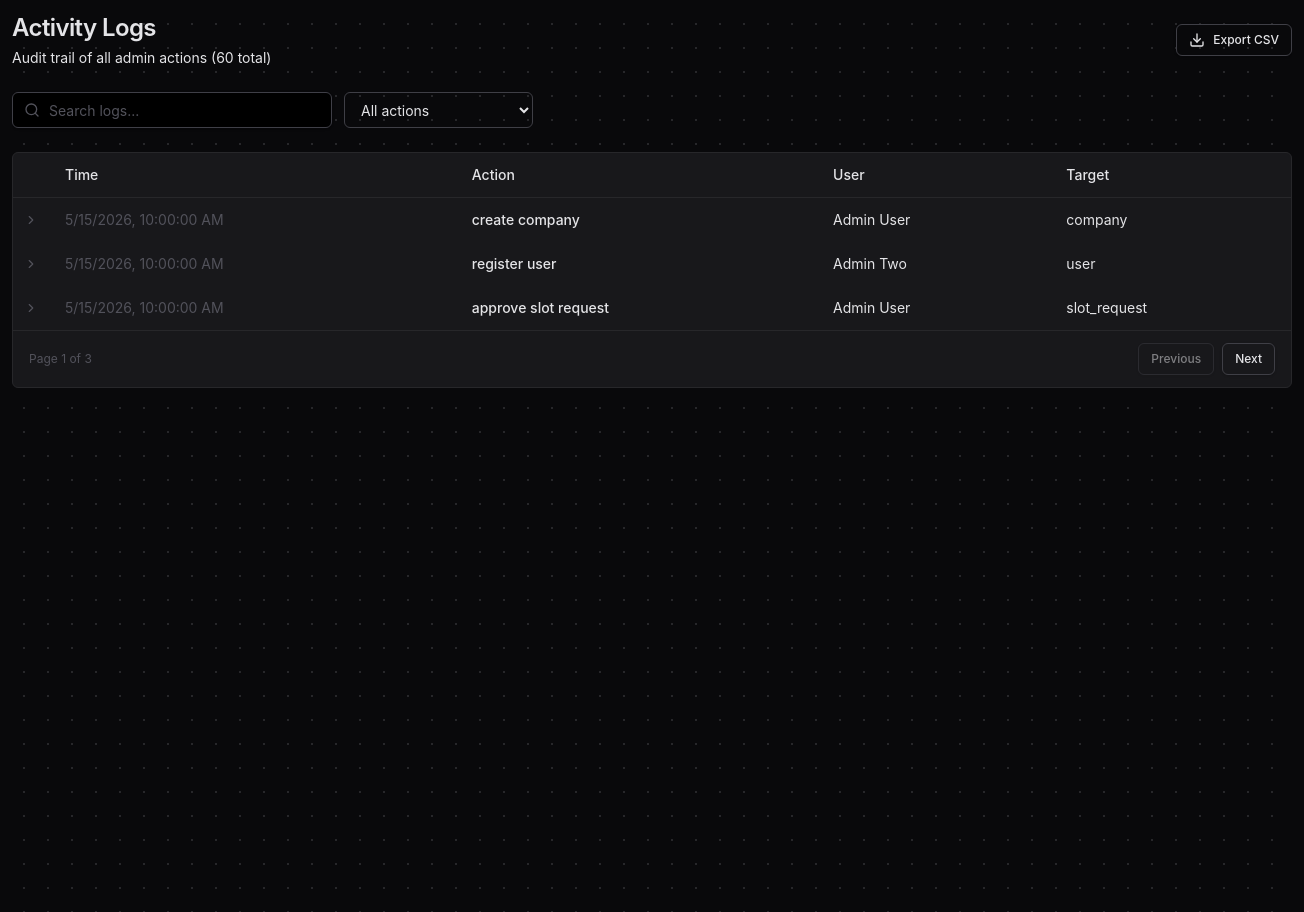
AdminLogs › T-M3-3.D.1 - Loading, debounced search, action filters, pagination, empty states › search input change resets page to 0
Expected: the text "create company" is shown, [472,211,580,228]
# Navigate to page 2
Click the button "Next". click: (1249, 359)
box: [1222,343,1275,375]
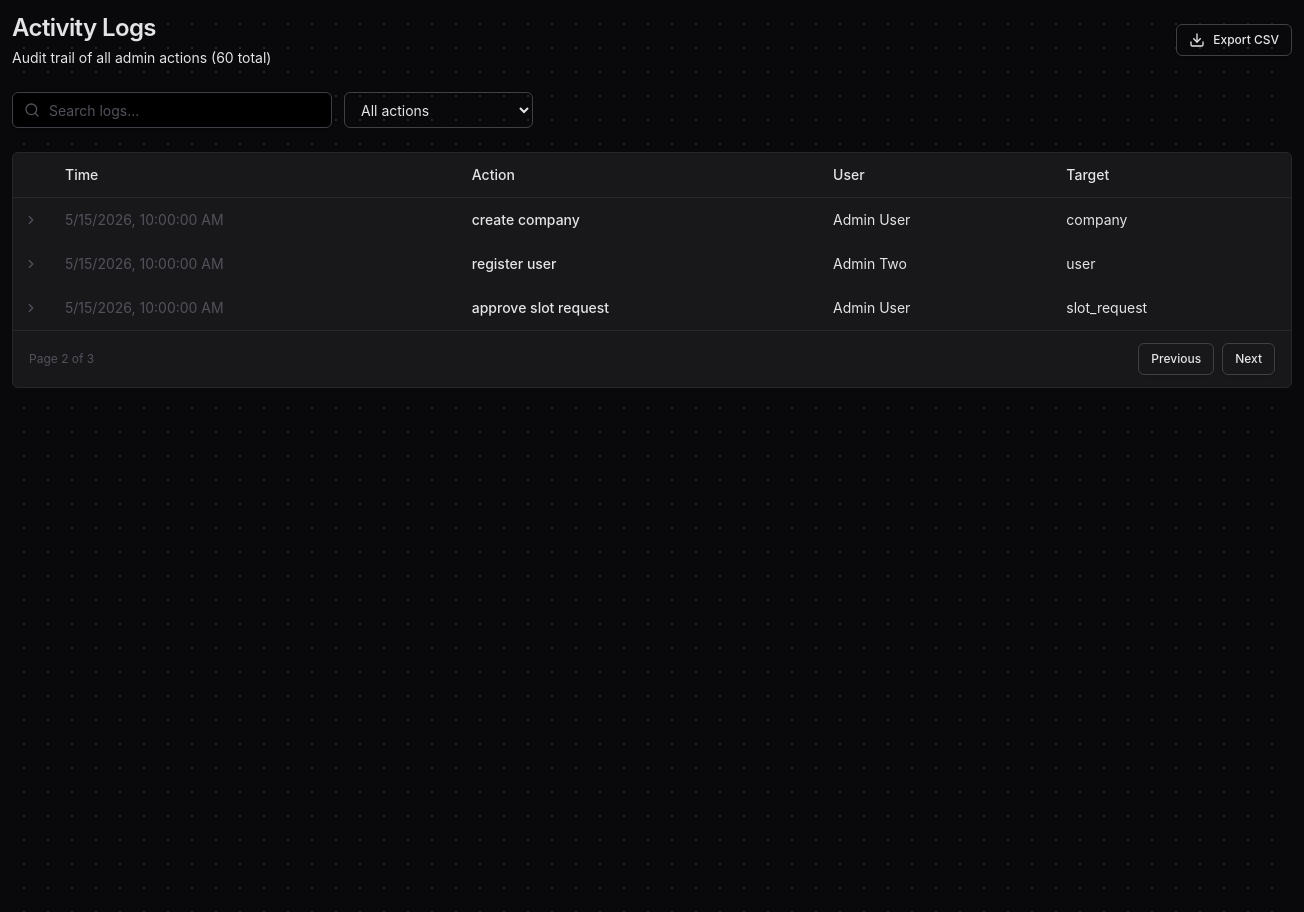
Expected: the text "Page 2 of 3" is shown, [29,351,94,367]
# Type search - should reset to page 1
Type "a" into the field with placeholder "Search logs...". click: (172, 110)
box: [12,92,332,128]
Wait 400 ms
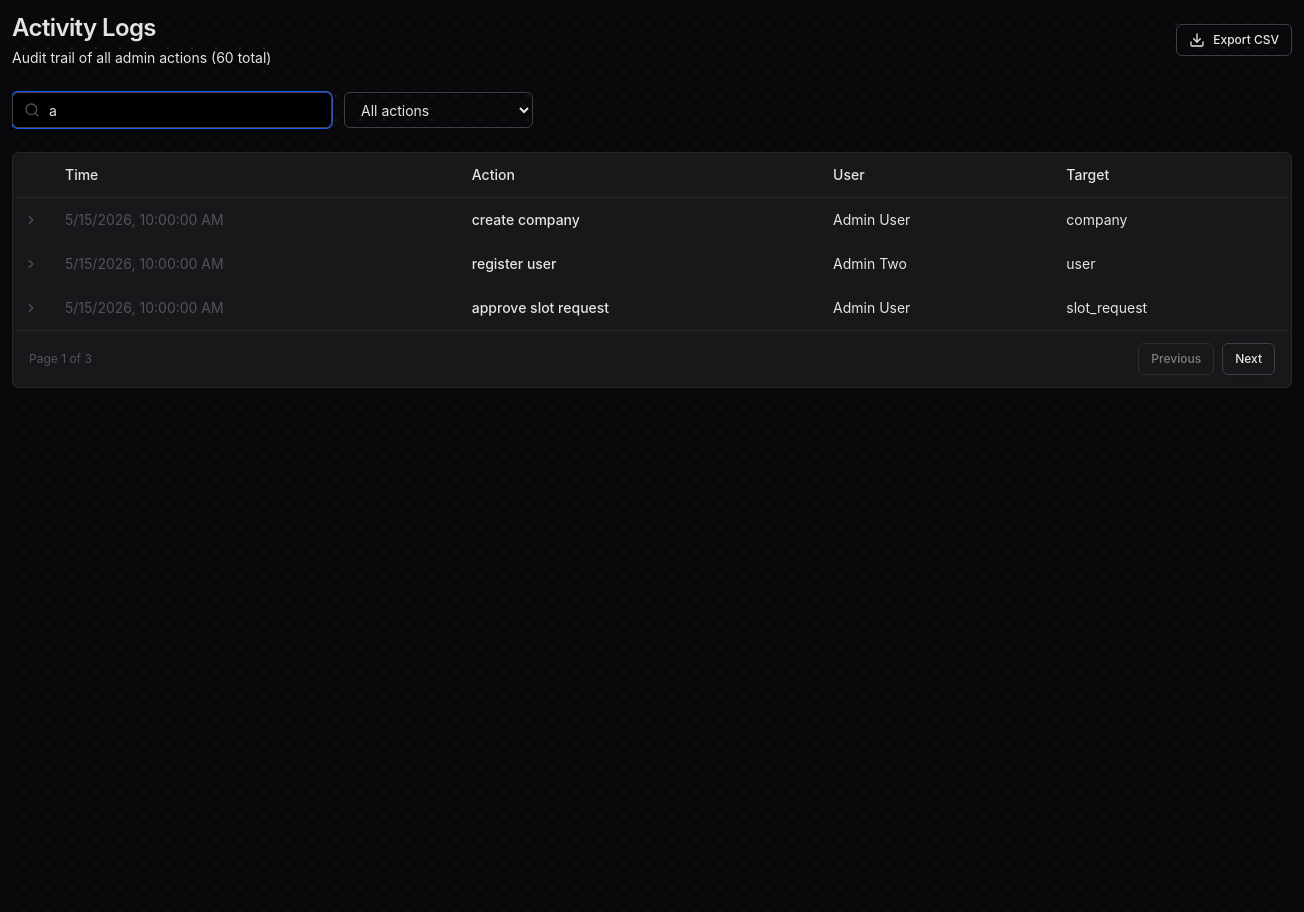
Expected: the text "Page 1 of 3" is shown, [29,351,92,367]
